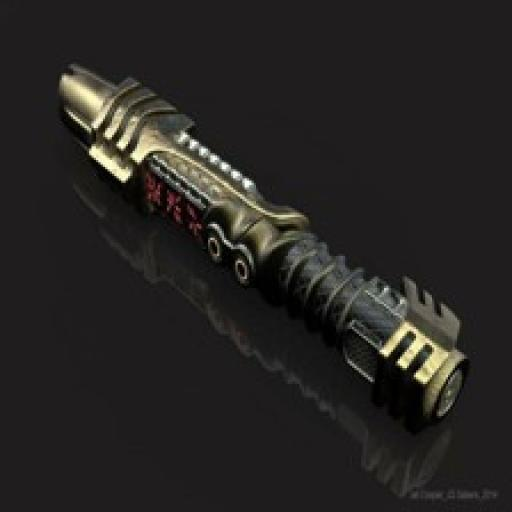lightsaber: (55, 58, 472, 428)
